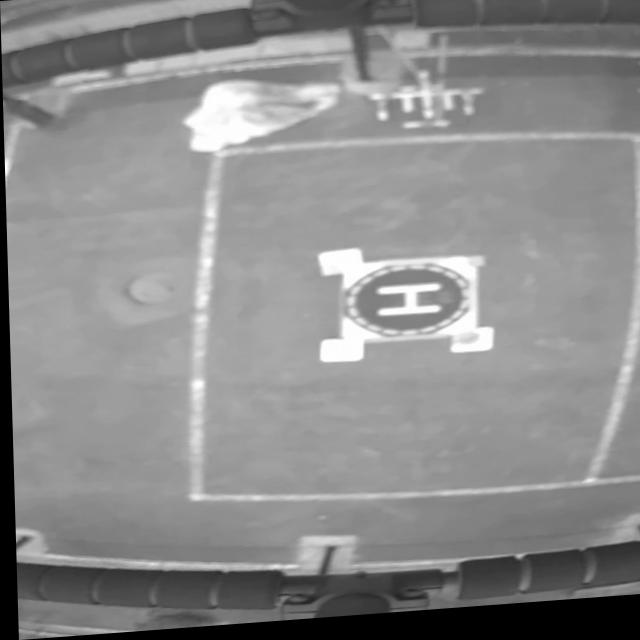Helipad: (374, 288, 442, 320)
